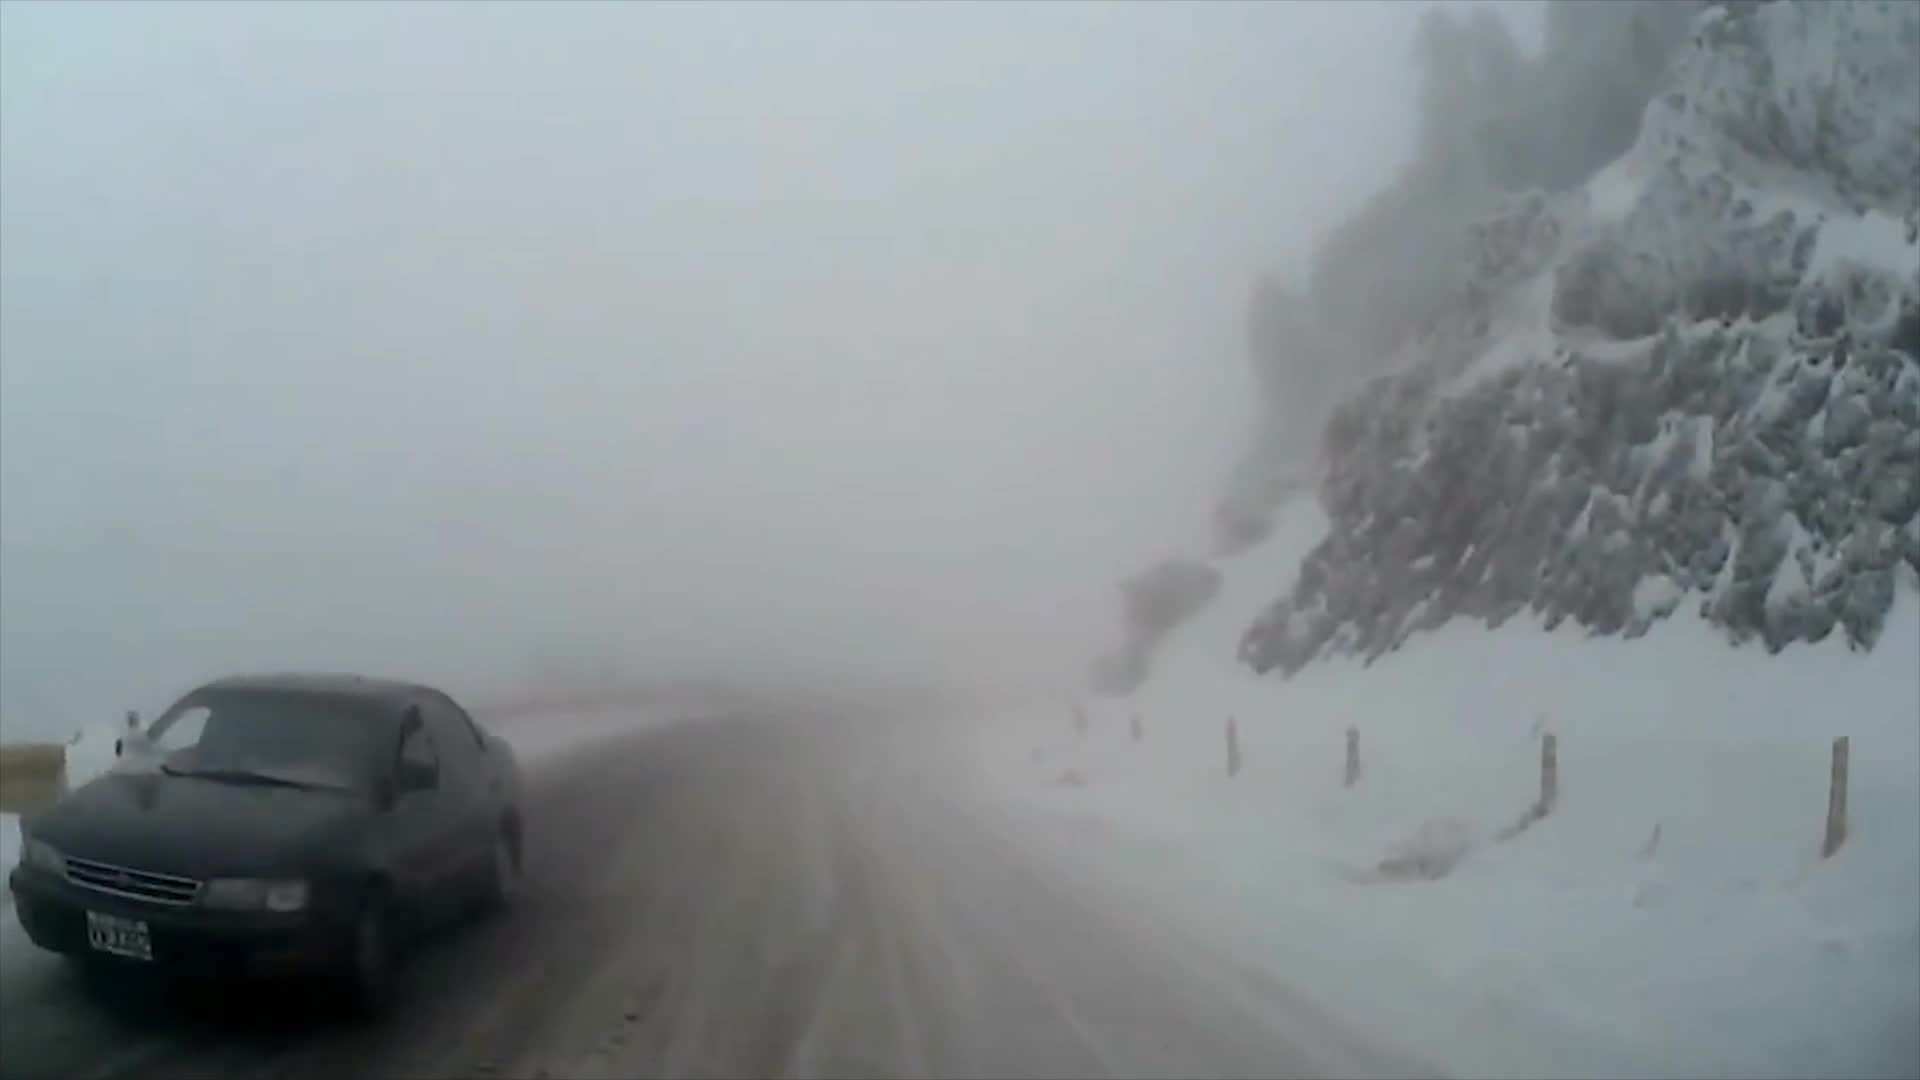vehicle: (13, 670, 527, 1015)
